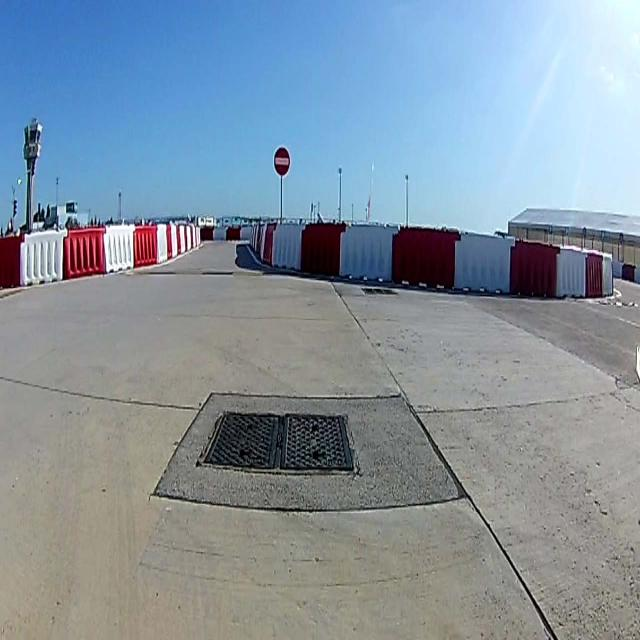girisyok: (272, 147, 290, 176)
